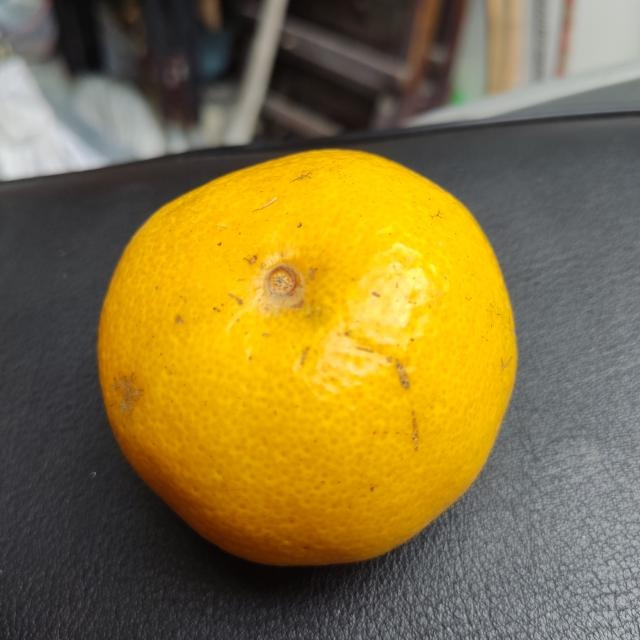agrume: (90, 145, 523, 575)
